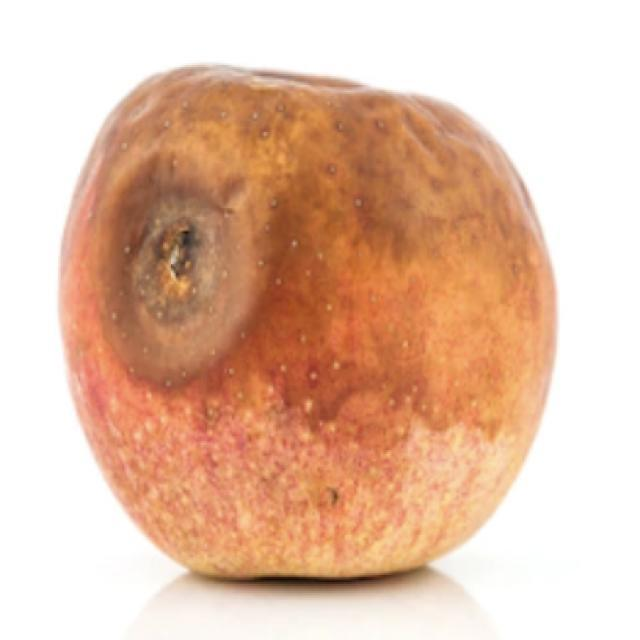Rotten: (52, 55, 563, 572)
